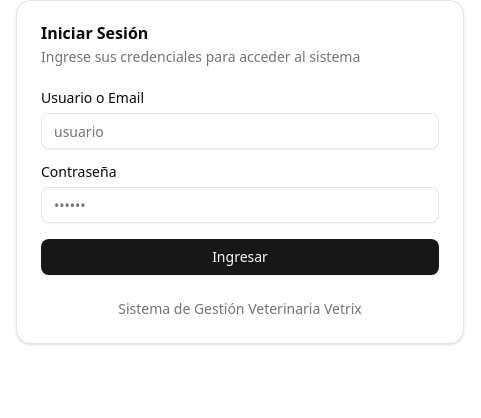
LoginForm Component › should show validation errors for empty fields
Note: Click submit without filling fields
Click the button "Ingresar".
click(240, 257)  # box [41,239,439,275]
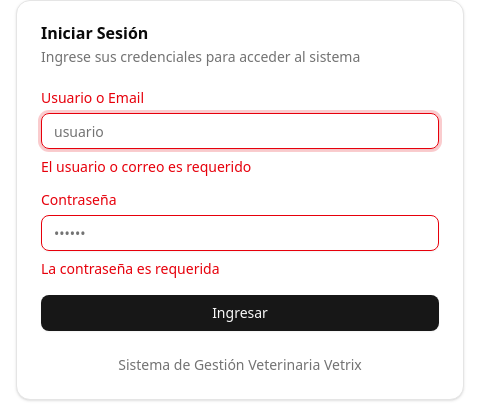
Expected: the text "El usuario o correo es requerido" is shown, [41,157,251,176]
Expected: the text "La contraseña es requerida" is shown, [41,259,220,278]
